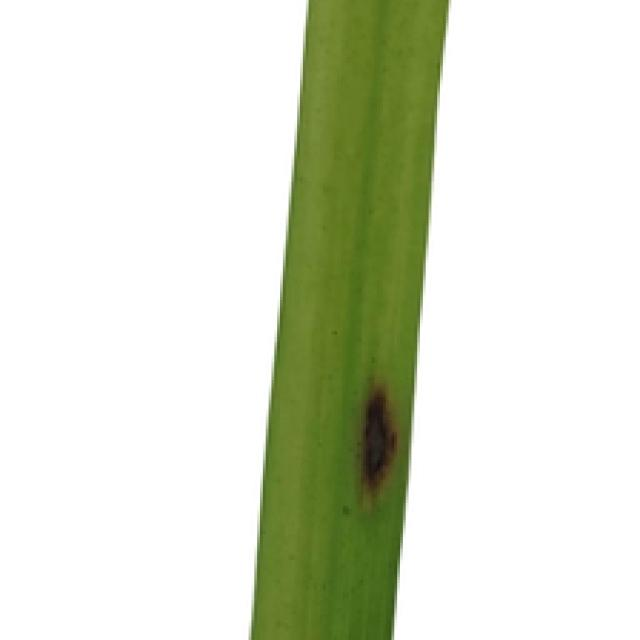Rice___Rice_Blast: (247, 0, 451, 637)
